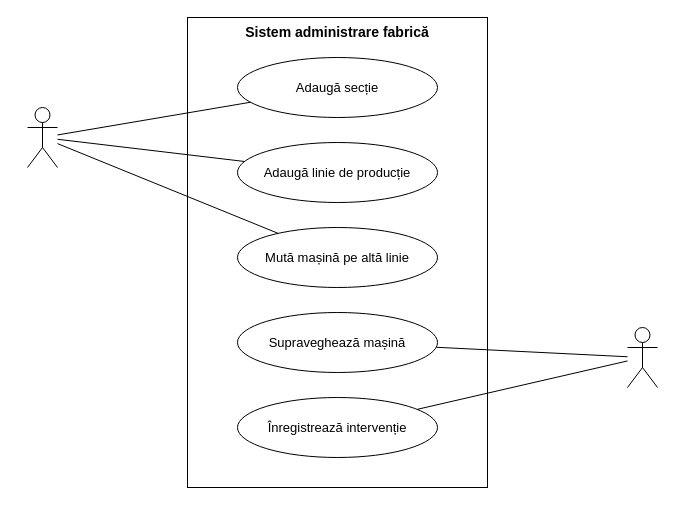
This 685x505 diagram has some shape labels left out. The shapes that lost their labels are listed below. From the top down, each one's centre as x and y in pixels, then its label:
point 42,137: Manager
point 642,357: Operator
